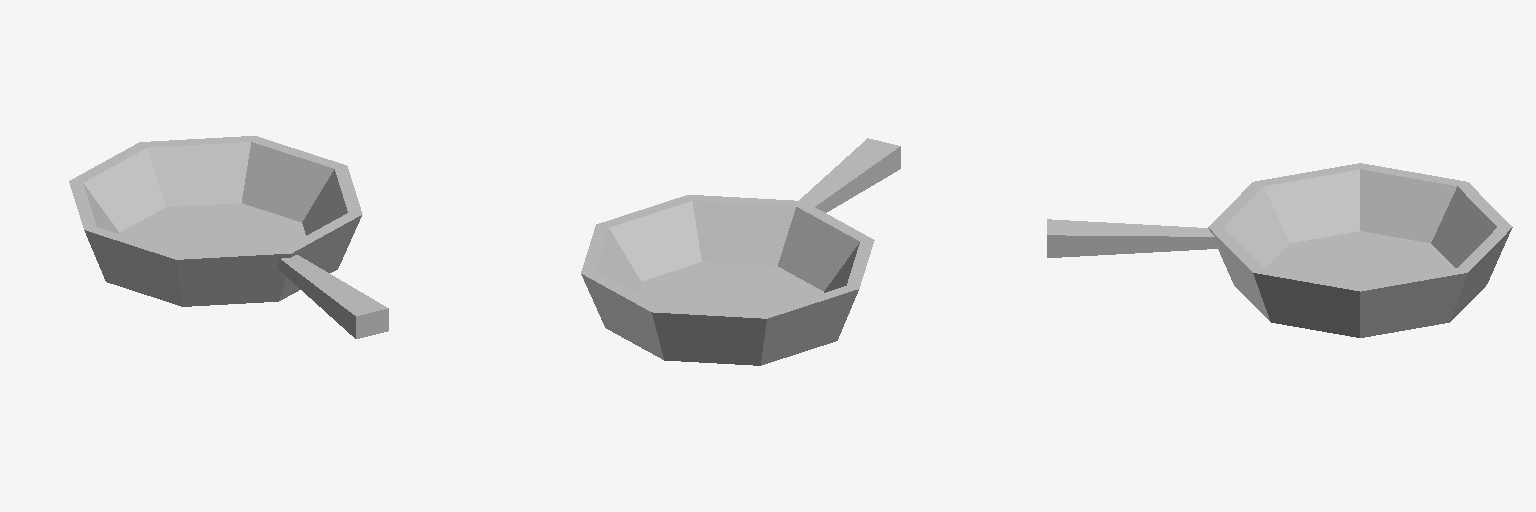
Rendered from Pan.obj.
3 renders of one model, left to right at view 1: azimuth 30°, elevation 25°; view 2: azimuth 150°, elevation 25°; view 3: azimuth 270°, elevation 25°, orthographic.
Parts seen in each view (by area): view 1: Cylinder; view 2: Cylinder; view 3: Cylinder.
Boxes of the visible parts, box(x1,y1,x2,y2) form: Cylinder: box(69, 136, 388, 338); Cylinder: box(581, 138, 900, 365); Cylinder: box(1047, 163, 1512, 337).
Size of the model in its own units: 2.4 by 0.5 by 3.67.